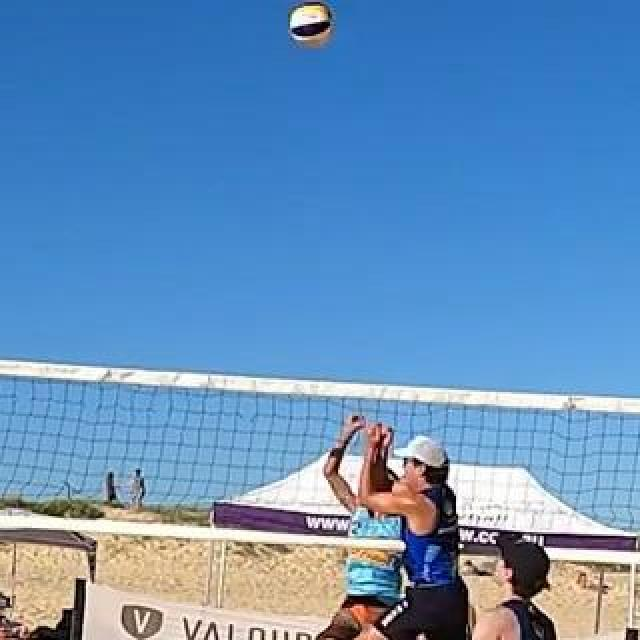volleyball: (290, 2, 332, 44)
